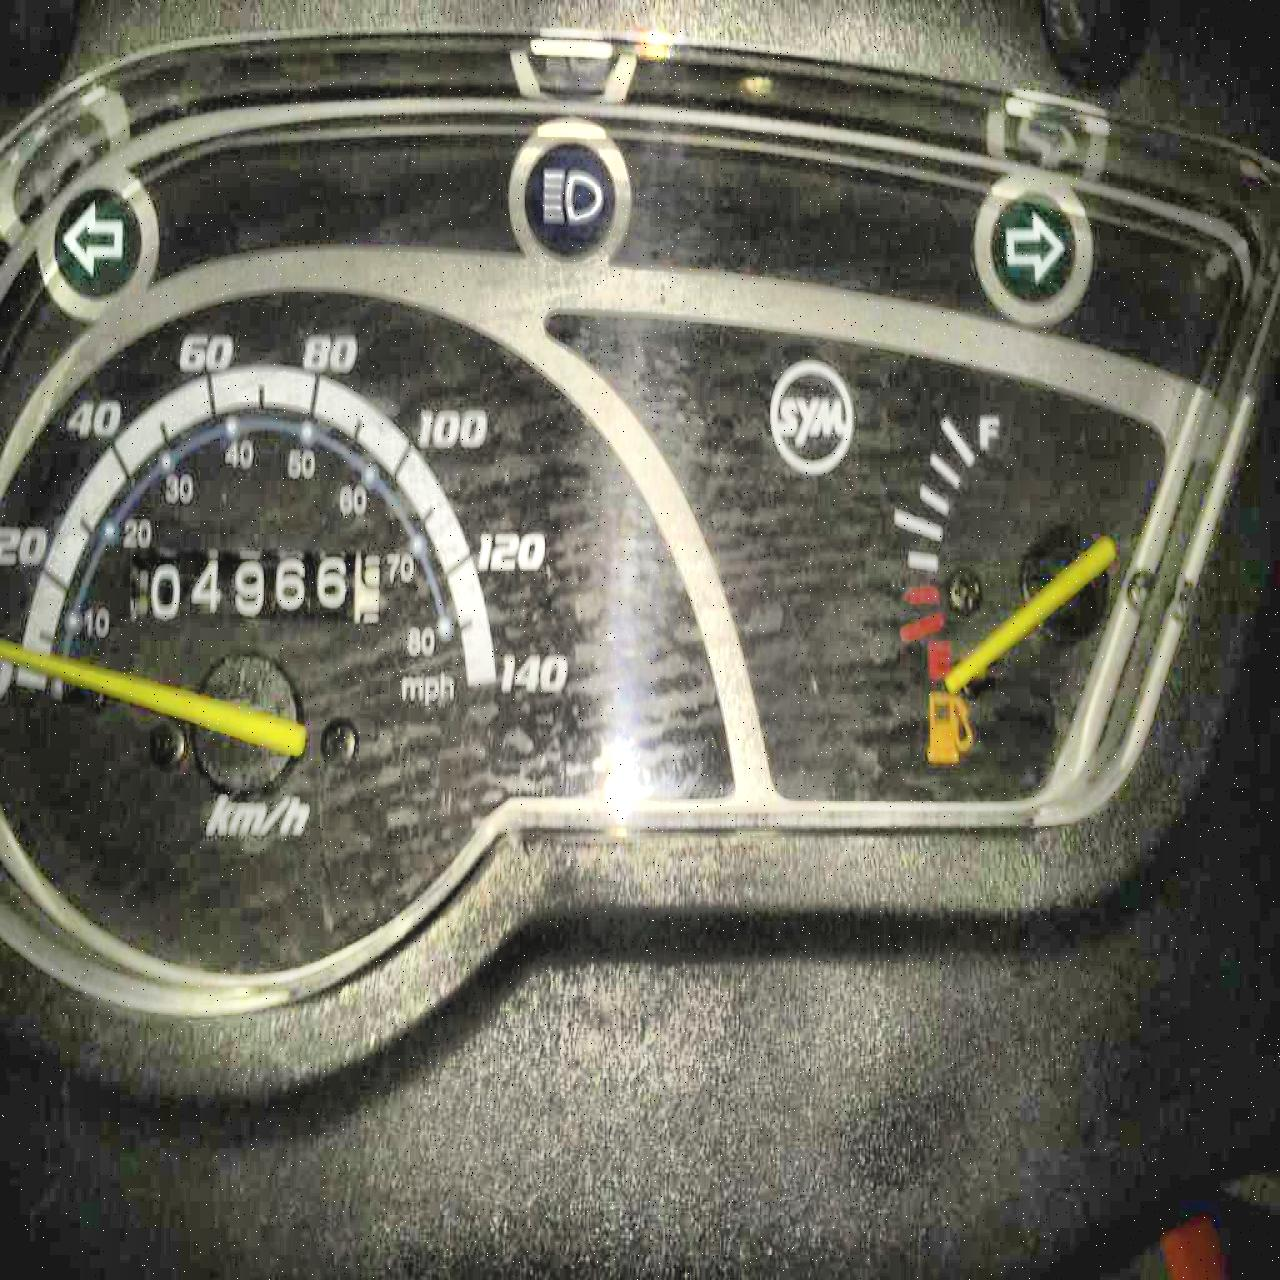0: (149, 559, 181, 621)
4: (190, 557, 223, 611)
6: (315, 554, 350, 613), (272, 554, 306, 610), (359, 551, 384, 595)
9: (232, 558, 266, 618)
odometer: (138, 546, 388, 636)
